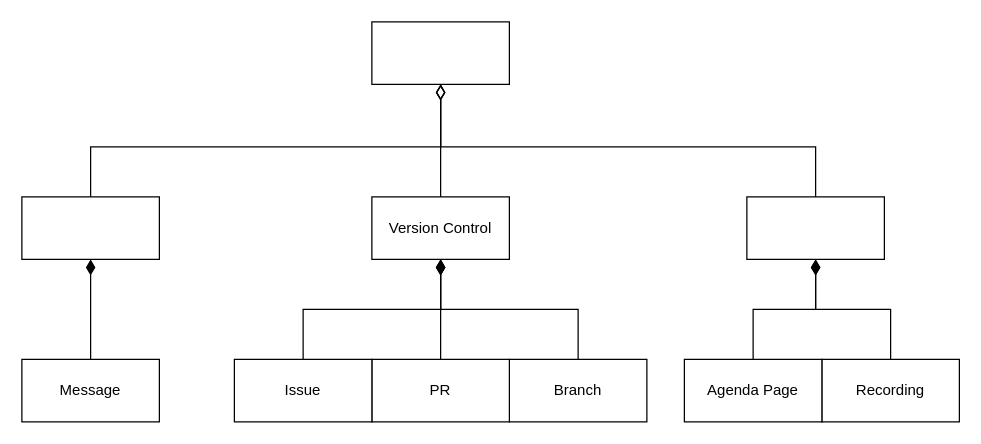
Image size: 981x444. Some labels were removed from this diagram. The shapes that lost their labels are listed below. From the top down, each one's box as (x1, y1, x2, y2) in pixels, then its label:
(371, 21, 509, 84): Project
(21, 196, 159, 259): Communication
(746, 196, 884, 259): Meeting Note
